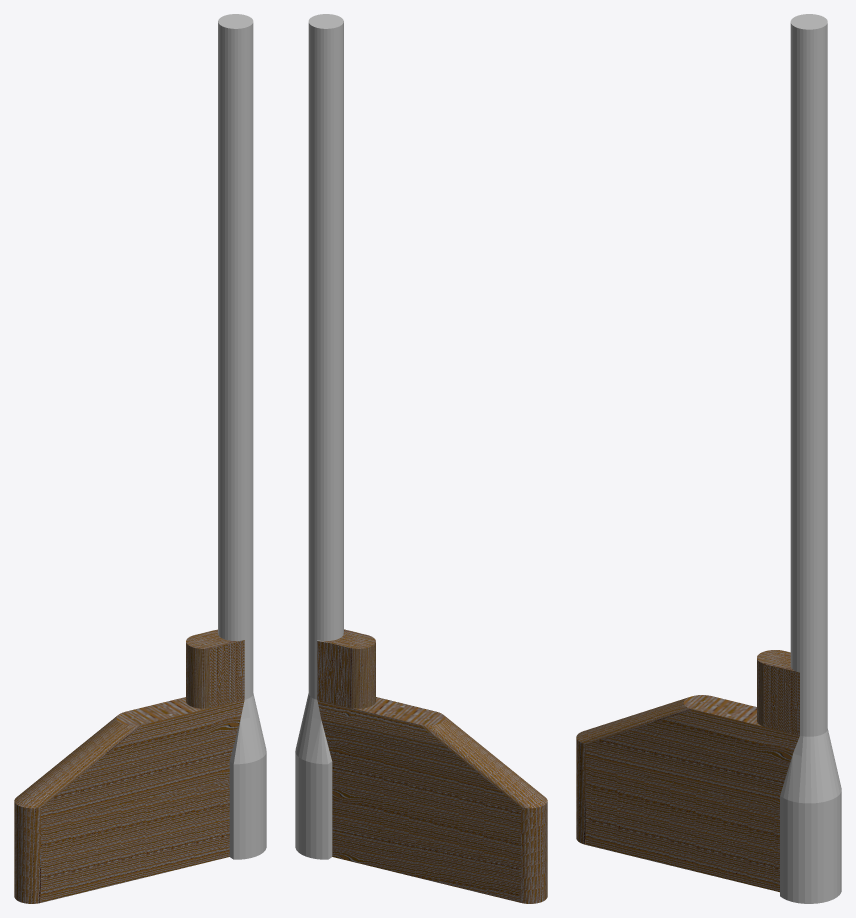
Rendered from DartGun.fbx.
The picture shows the model from 3 angles, left to right: view 1: azimuth 30°, elevation 25°; view 2: azimuth 150°, elevation 25°; view 3: azimuth 330°, elevation 25°; orthographic projection. The views are drawn at different scales.
Visible parts, largest first — view 1: DartGun; view 2: DartGun; view 3: DartGun.
Boxes of the visible parts, x1,y1,x2,y2 form: DartGun: [14, 14, 266, 903]; DartGun: [295, 14, 547, 903]; DartGun: [576, 14, 841, 903].
Bounding box in the file's own units: 0.241 × 0.7733 × 0.0525.
